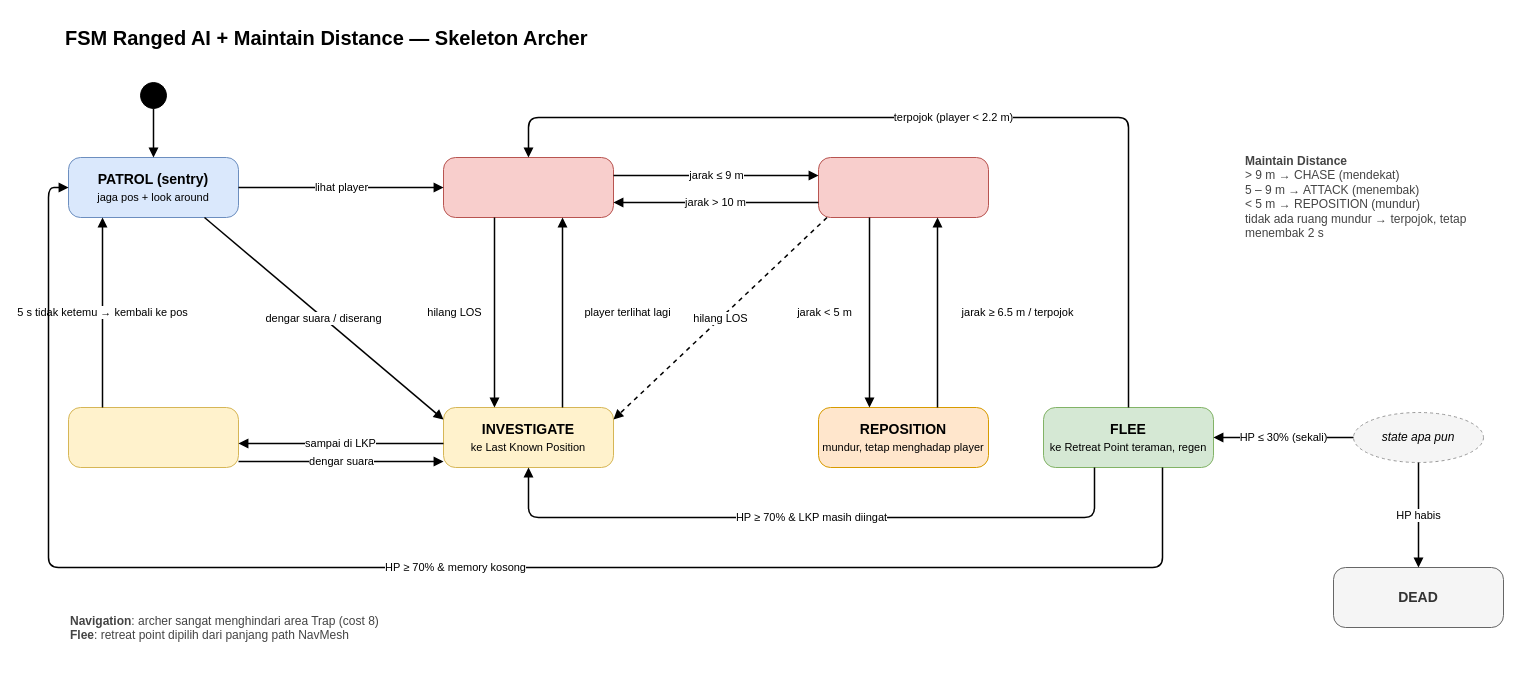
This 1531x674 diagram has some shape labels left out. Each missing label, with the box of its shape:
ATTACK aim 0.45 s → shoot: (818, 156, 988, 218)
CHASE mendekat: (442, 156, 614, 218)
SEARCH cari di sekitar LKP: (68, 406, 238, 468)
